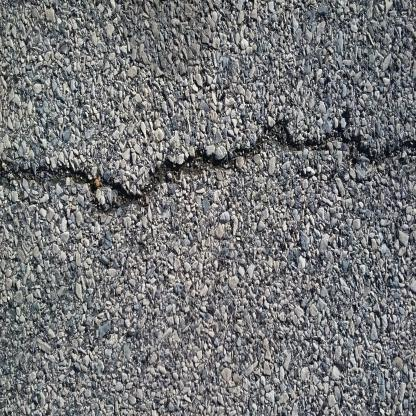Cracks: (0, 110, 415, 221)
